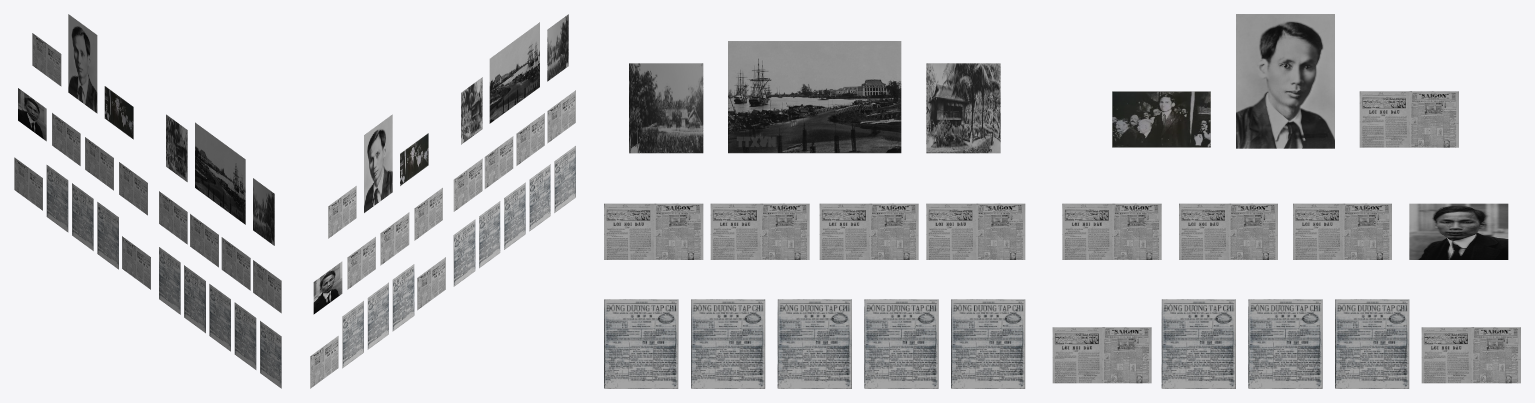
Rendered from HanhTrinhBC_Inside_1.glb.
3 renders of one model, left to right at view 1: azimuth 30°, elevation 25°; view 2: azimuth 150°, elevation 25°; view 3: azimuth 270°, elevation 25°, orthographic. The views are drawn at different scales.
Parts seen in each view (by area): view 1: Plane.009, Plane.015, Plane.026, Plane.029, Plane.002, Plane.005, Plane.007, Plane.017, Plane.027, Plane.010, Plane.033, Plane.028 (+12 smaller); view 2: Plane.009, Plane.015, Plane.010, Plane.007, Plane.017, Plane.026, Plane.027, Plane.028, Plane.029, Plane.002, Plane.033, Plane.005 (+12 smaller); view 3: Plane.009, Plane.015, Plane.027, Plane.017, Plane.026, Plane.028, Plane.029, Plane.010, Plane.033, Plane.002, Plane.005, Plane.007 (+12 smaller).
Part boxes in pixels (x1,y1,x2,y2): Plane.009: [195, 122, 245, 224]; Plane.015: [68, 14, 97, 113]; Plane.026: [46, 165, 68, 232]; Plane.029: [234, 302, 256, 369]; Plane.002: [184, 265, 205, 333]; Plane.005: [260, 321, 281, 388]; Plane.007: [159, 247, 180, 314]; Plane.017: [253, 178, 274, 245]; Plane.027: [166, 114, 187, 181]; Plane.010: [97, 202, 118, 269]; Plane.033: [72, 183, 93, 250]; Plane.028: [209, 284, 230, 351]; Plane.009: [489, 22, 539, 123]; Plane.015: [364, 114, 392, 212]; Plane.010: [392, 264, 414, 331]; Plane.007: [453, 219, 475, 286]; Plane.017: [547, 14, 568, 81]; Plane.026: [342, 301, 363, 368]; Plane.027: [461, 77, 482, 144]; Plane.028: [504, 182, 525, 249]; Plane.029: [529, 164, 550, 231]; Plane.002: [479, 201, 500, 268]; Plane.033: [367, 282, 388, 349]; Plane.005: [554, 146, 575, 212]; Plane.009: [728, 41, 901, 153]; Plane.015: [1236, 14, 1334, 148]; Plane.027: [926, 63, 1000, 153]; Plane.017: [629, 63, 703, 153]; Plane.026: [1335, 299, 1409, 388]; Plane.028: [777, 299, 851, 388]; Plane.029: [691, 299, 765, 388]; Plane.010: [1161, 299, 1235, 388]; Plane.033: [1248, 299, 1322, 388]; Plane.002: [864, 299, 938, 388]; Plane.005: [604, 299, 678, 388]; Plane.007: [951, 299, 1025, 388].
Size of the model in its own units: 0 by 1.67 by 3.7.
Materials: 25 (25 with a texture image).
